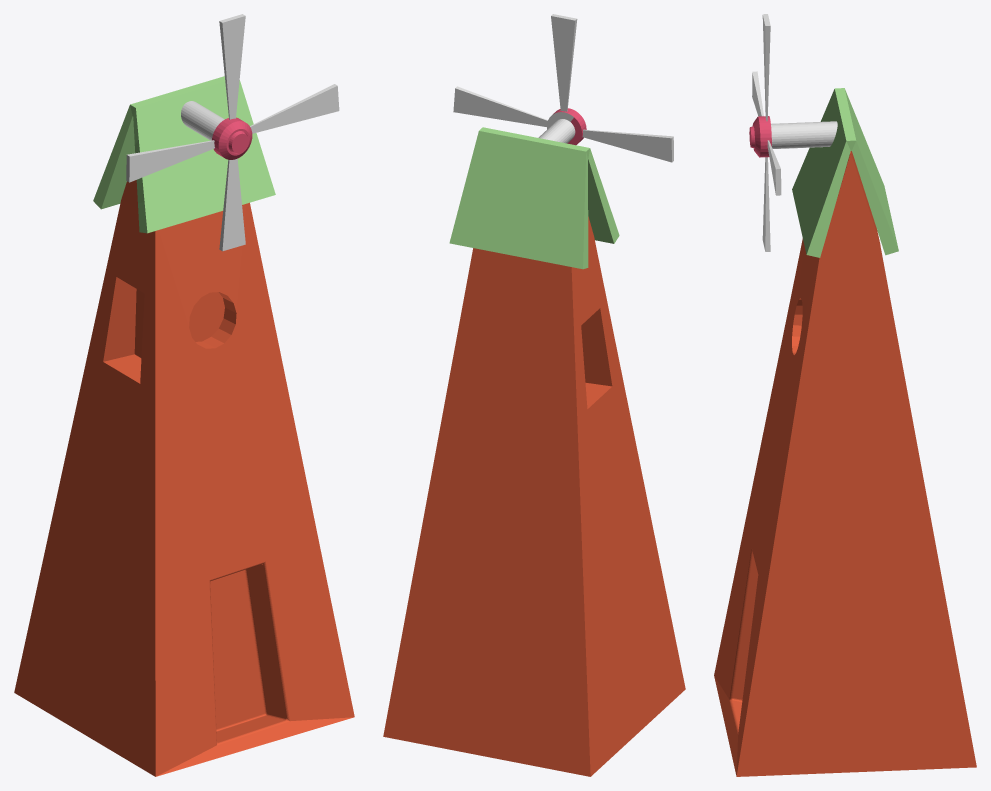
File: Windmill.fbx
3 views of the same model, side by side, from view 1: azimuth 30°, elevation 25°; view 2: azimuth 150°, elevation 25°; view 3: azimuth 270°, elevation 25° (orthographic). The views are drawn at different scales.
Parts seen in each view (by area): view 1: Cube.005; view 2: Cube.005; view 3: Cube.005.
Boxes of the visible parts, x1,y1,x2,y2 form: Cube.005: (14, 14, 354, 776); Cube.005: (383, 14, 685, 776); Cube.005: (714, 14, 976, 776).
Size of the model in its own units: 5605 by 16272 by 5497.
